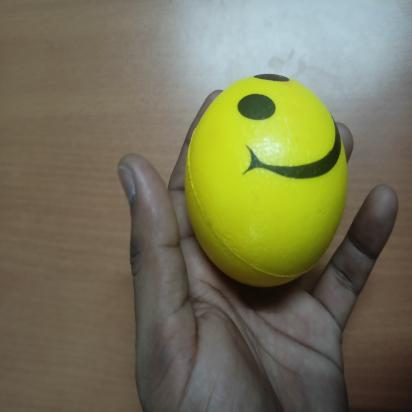Yellowball: (182, 69, 352, 292)
